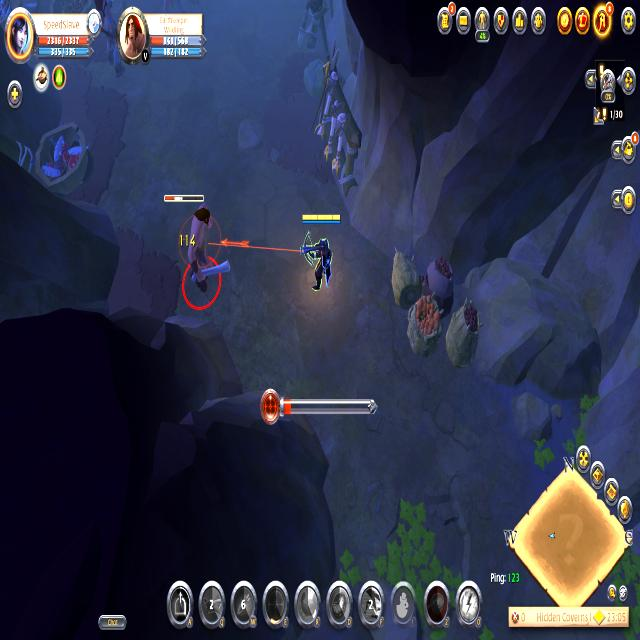ore: (160, 194, 230, 315)
red: (296, 207, 346, 307)
